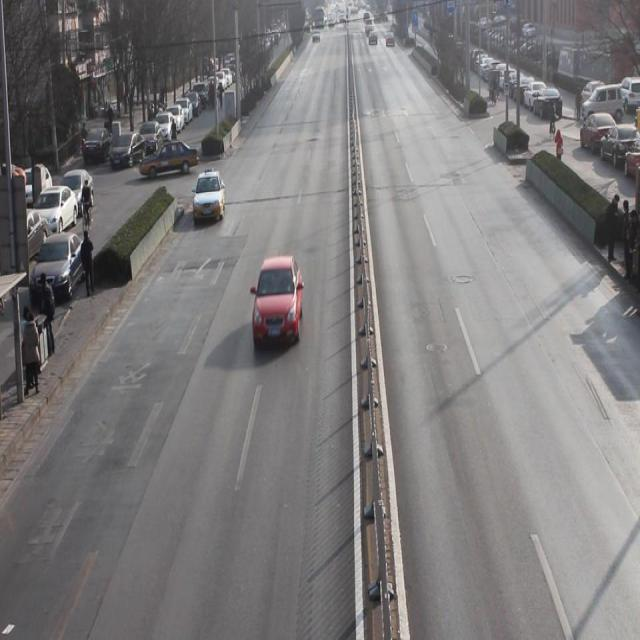car: (253, 251, 304, 350), (194, 167, 226, 230)
